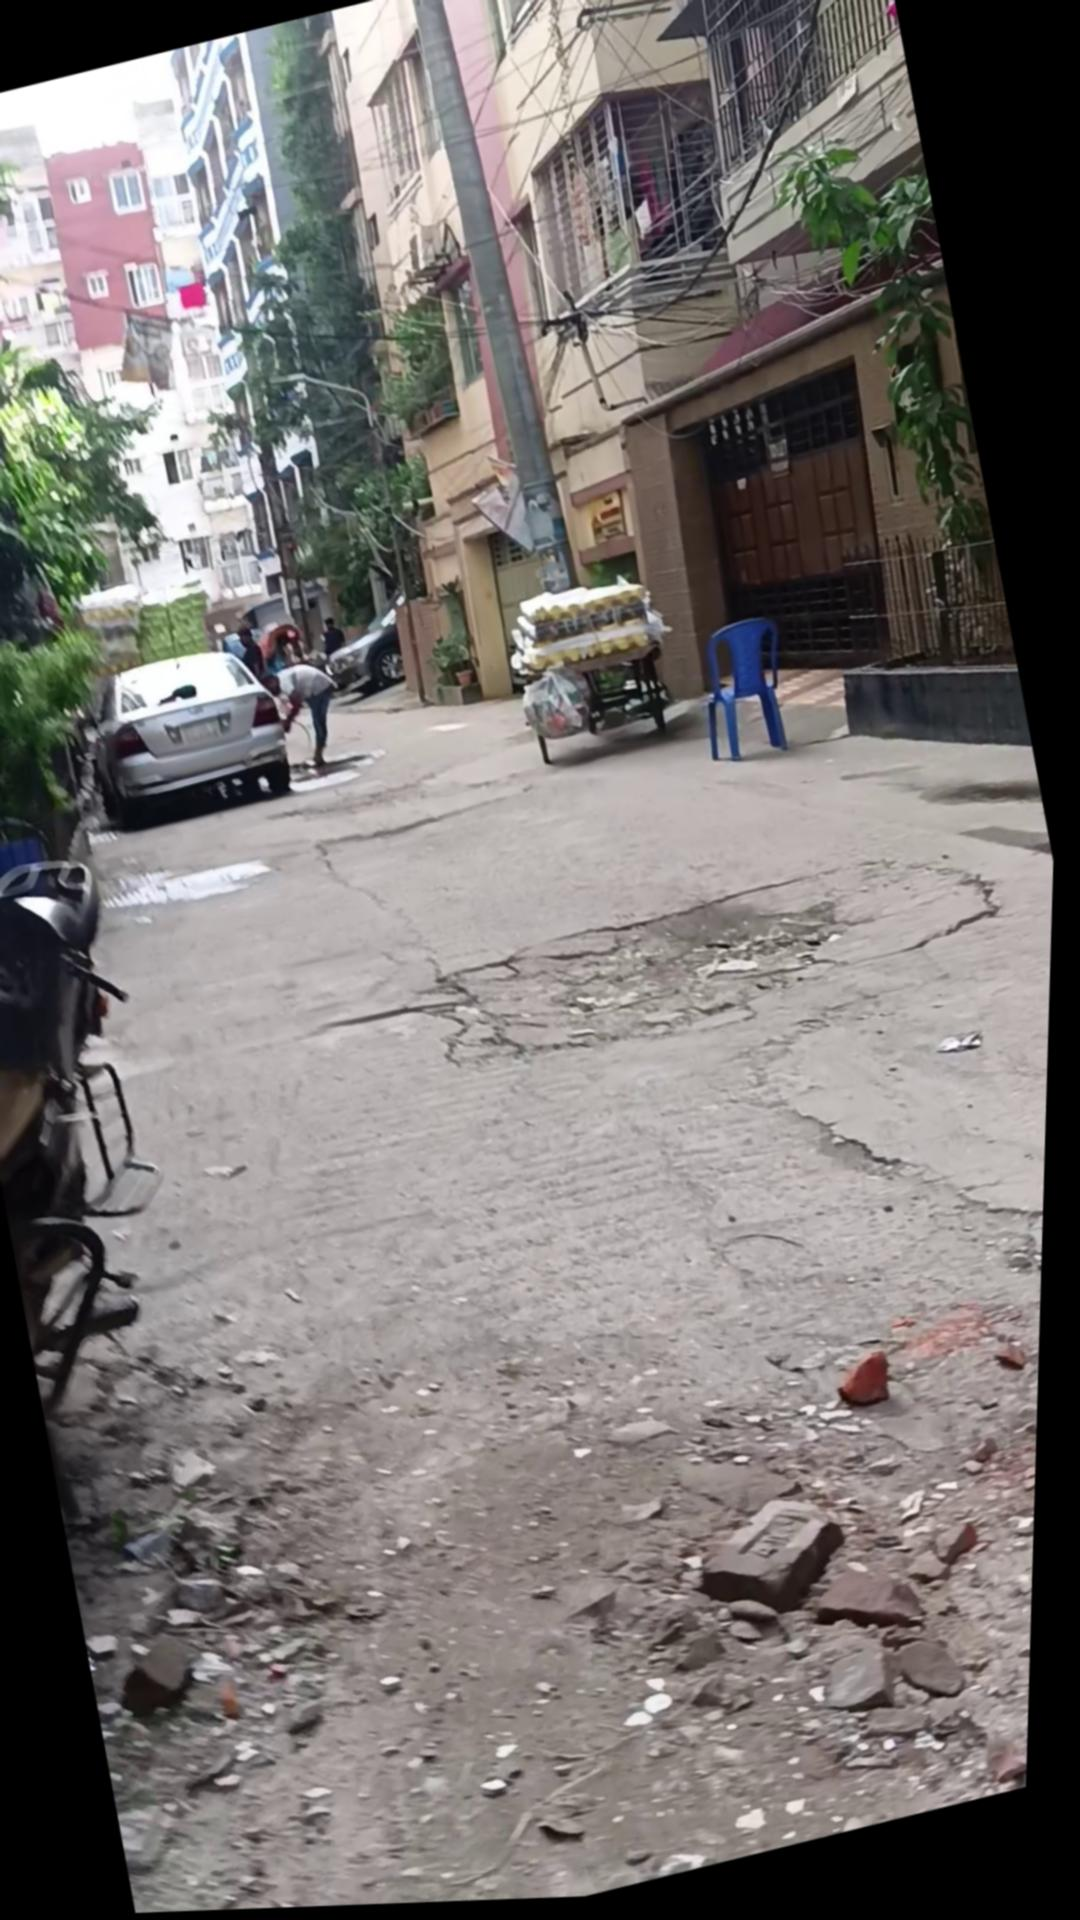Broken-road: (0, 505, 1068, 1920)
Car: (73, 632, 311, 841)
Crosswalk: (835, 634, 1036, 795)
Garbage-bin: (260, 351, 447, 733)
Light-pole: (0, 796, 244, 1519)
Muddy road: (261, 654, 357, 779), (319, 616, 351, 661)
Obstacle: (390, 0, 597, 611)
Pole: (425, 632, 484, 699)
Pothole: (498, 568, 694, 774)
